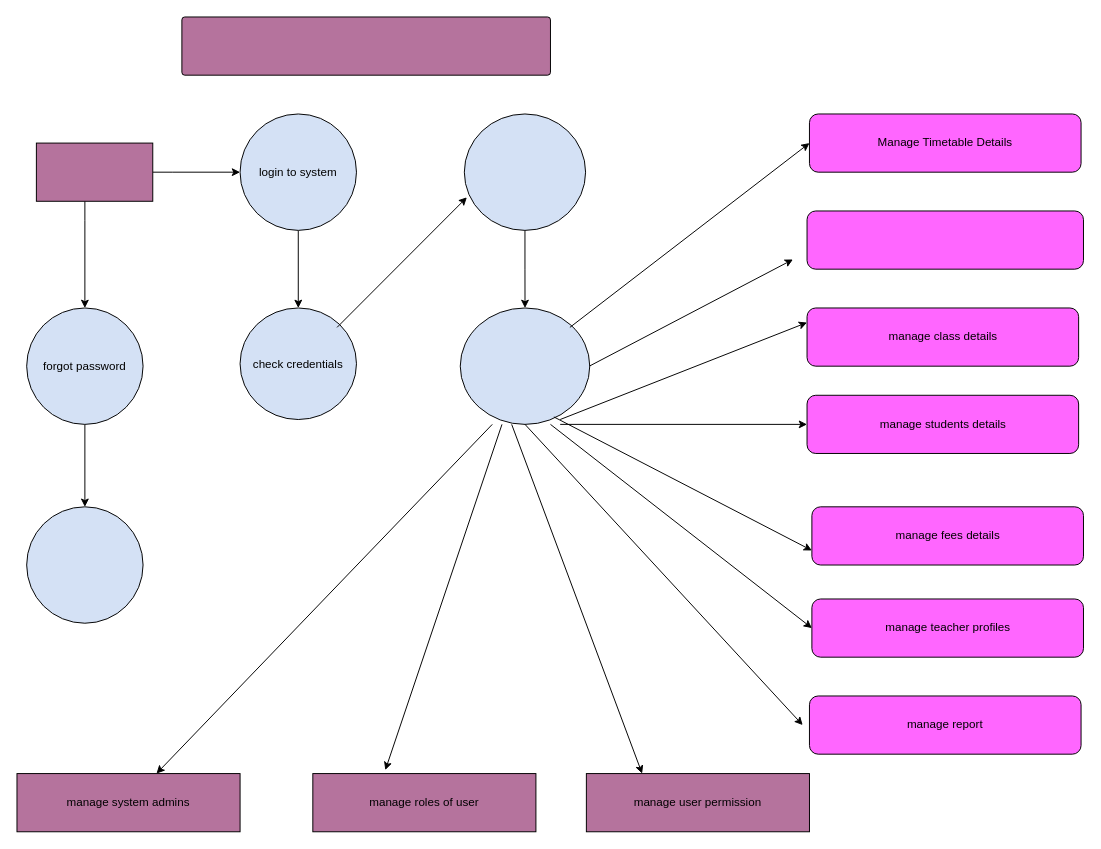
The diagram is 1101 pixels wide and 849 high, and some of its shapes have lost their labels. Here are the shapes that lost their labels. From the top down, the centre of each, then its label:
At [365,45]: "student information system".
At [94,171]: "admine".
At [524,171]: "check roles of access".
At [944,239]: "manage attendence detalis".
At [524,365]: "manage modules".
At [84,564]: "send email to user".
